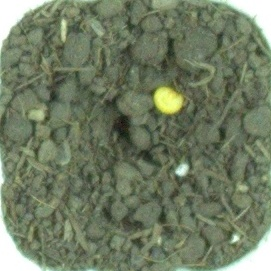chilli seed: (153, 84, 185, 116)
